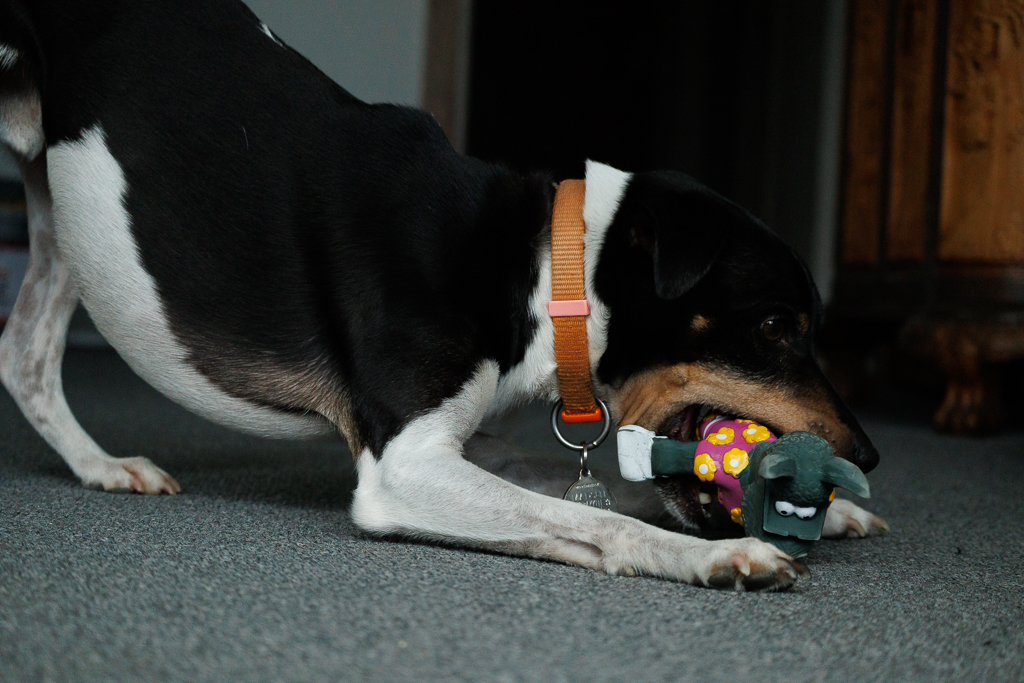Dog: (0, 0, 914, 614)
Humanoid: (597, 377, 881, 571)
